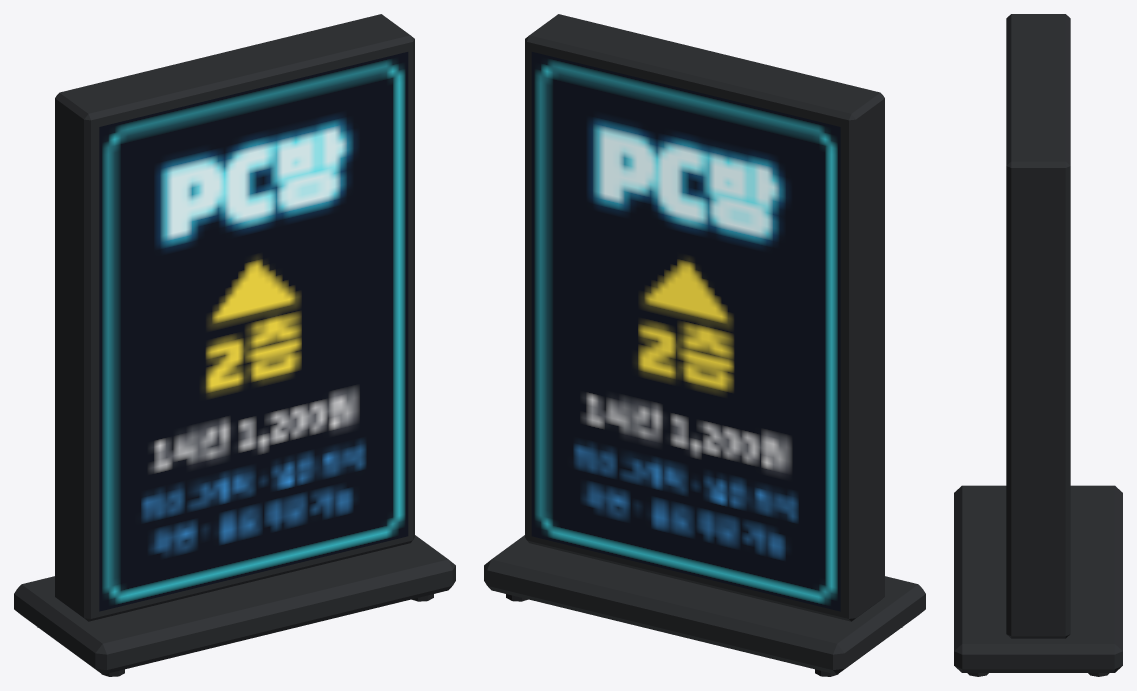
File: SC_Shop_Standing_Sign_PCBang.gltf
3 renders of one model, left to right at view 1: azimuth 30°, elevation 25°; view 2: azimuth 150°, elevation 25°; view 3: azimuth 270°, elevation 25°, orthographic. The views are drawn at different scales.
Parts seen in each view (by area): view 1: SC_Shop_Standing_Sign_PCBang; view 2: SC_Shop_Standing_Sign_PCBang; view 3: SC_Shop_Standing_Sign_PCBang.
Part boxes in pixels (<box>): SC_Shop_Standing_Sign_PCBang: <box>14,14,455,676</box>; SC_Shop_Standing_Sign_PCBang: <box>484,14,925,676</box>; SC_Shop_Standing_Sign_PCBang: <box>954,14,1122,676</box>.
Bounding box in the file's own units: 0.9733 × 1.41 × 0.42.
2 materials, 2 textured.
